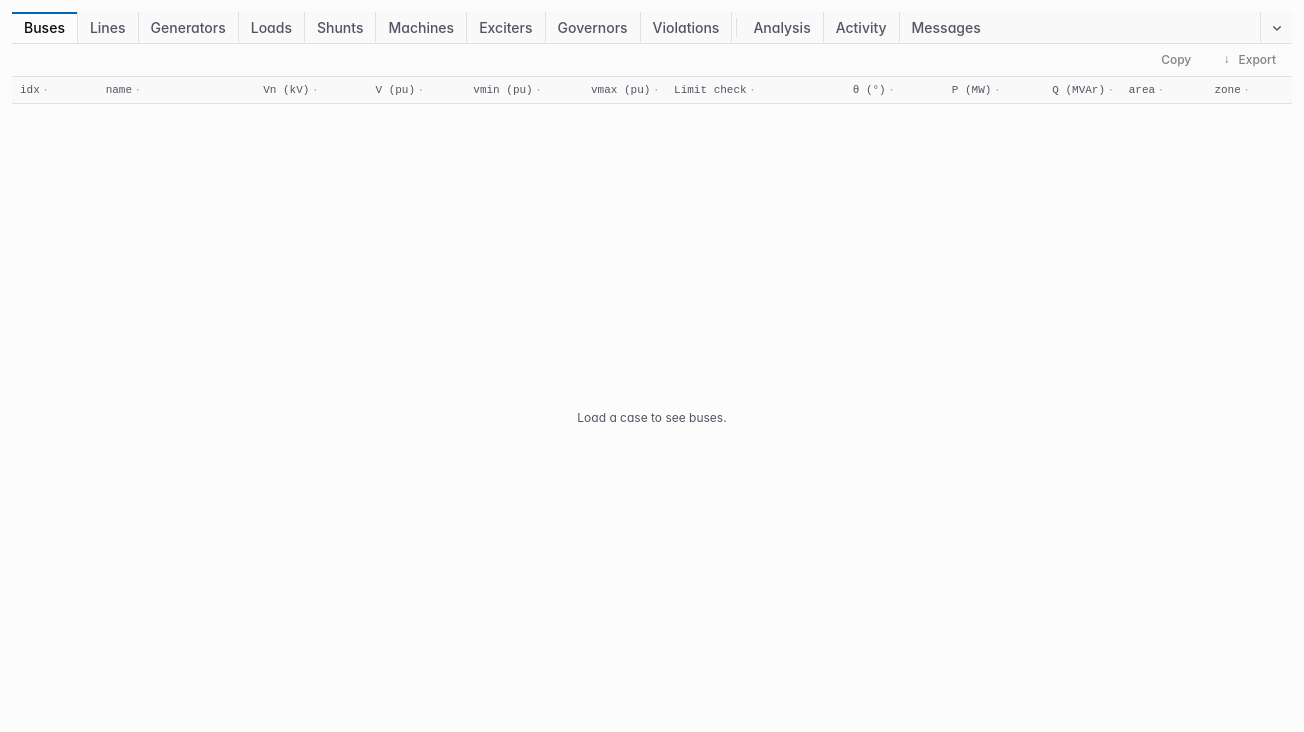
Test: <BottomDrawer /> Messages tab › opens on a click of its tab
Click the tab with test id "bottom-drawer-tab-messages".
click(946, 28)  # box [900,12,993,43]
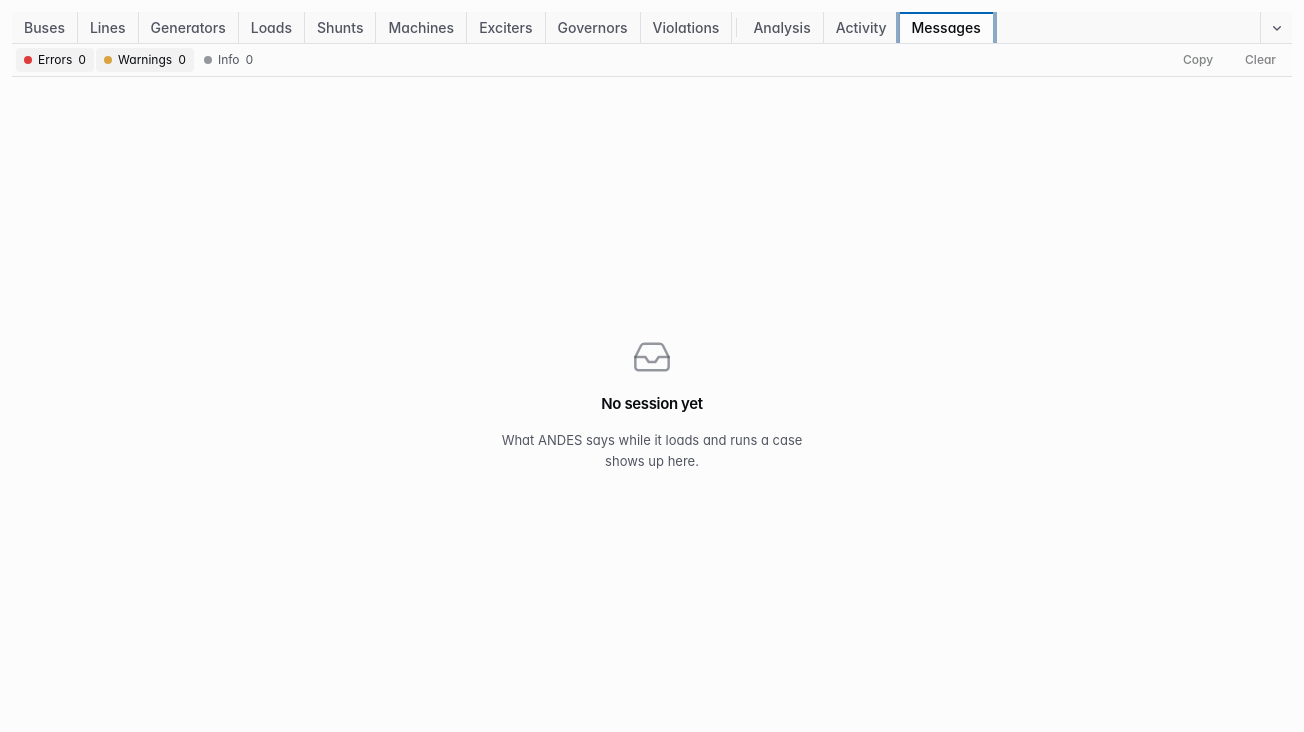
Result: the element with test id "messages-panel" is shown
